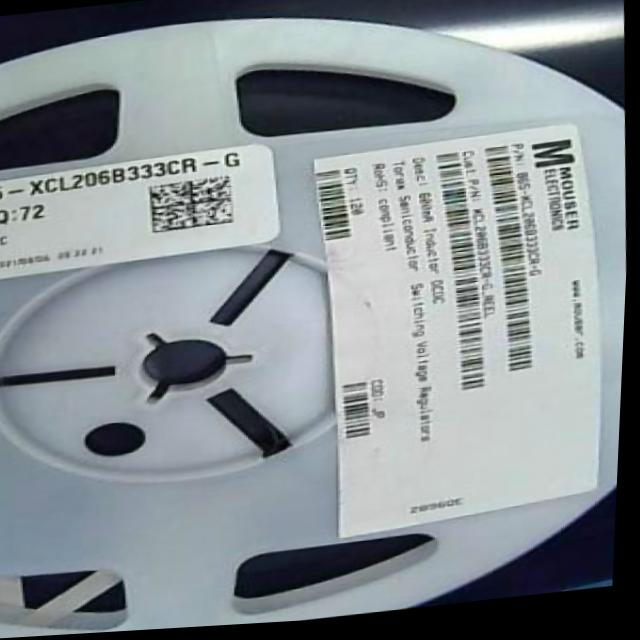datamatrix: (148, 177, 241, 239)
